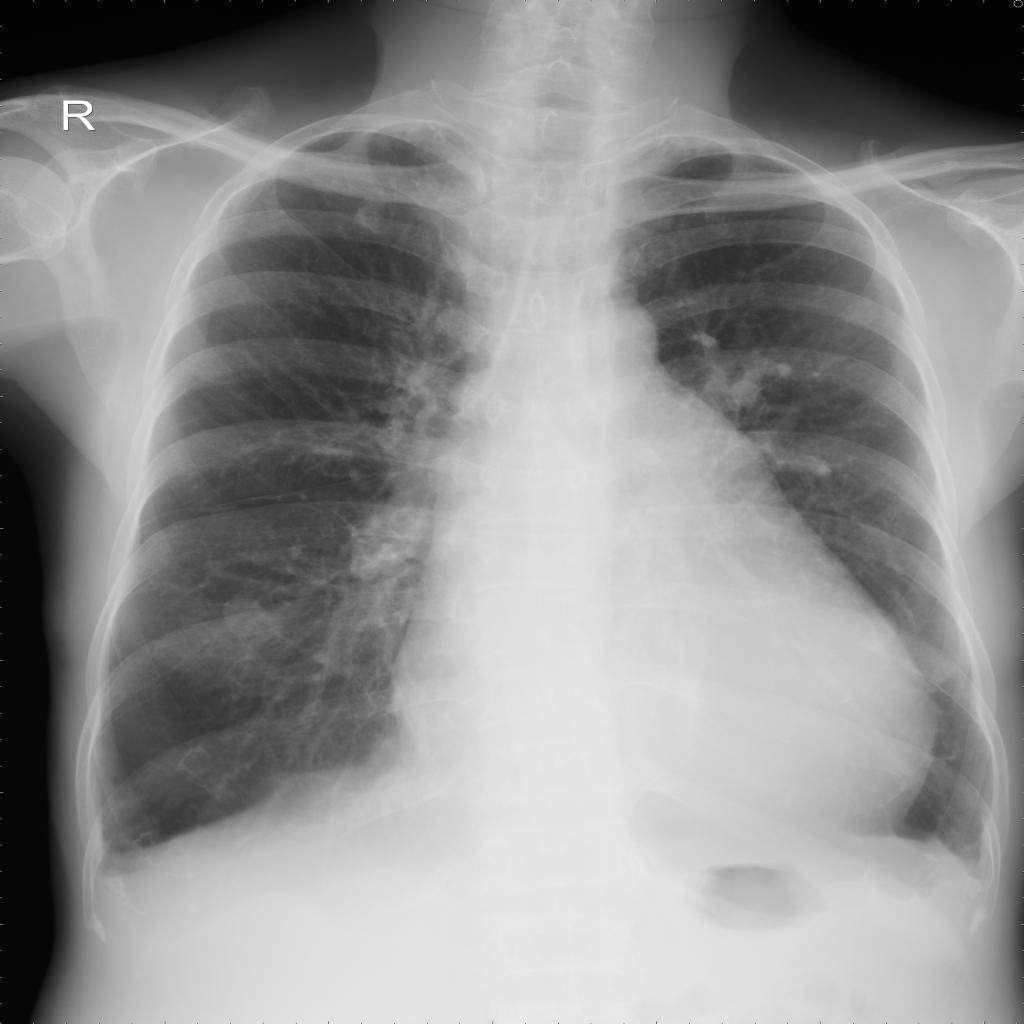Nodule: (224, 598, 266, 641)
